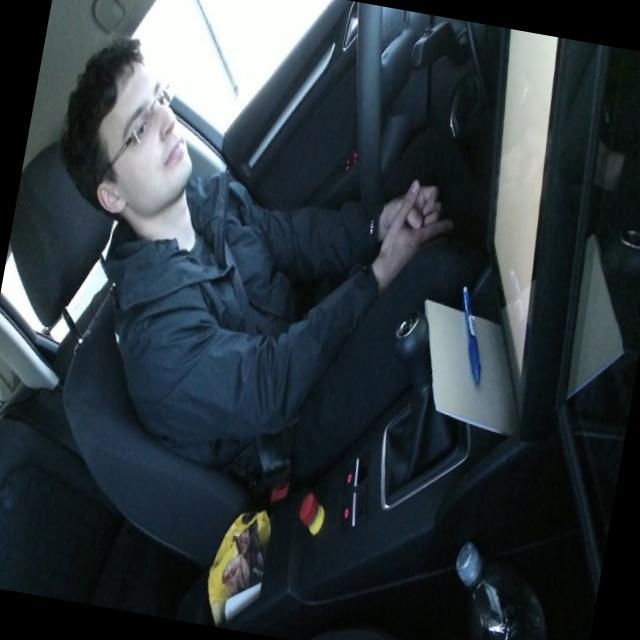pen: (444, 282, 496, 386)
